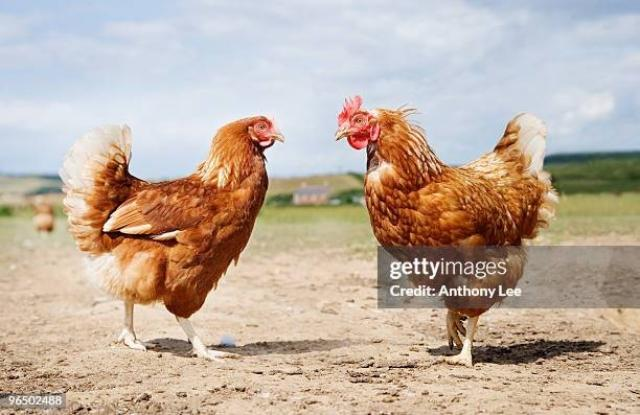Chicken: (336, 94, 559, 369), (58, 114, 286, 361)
